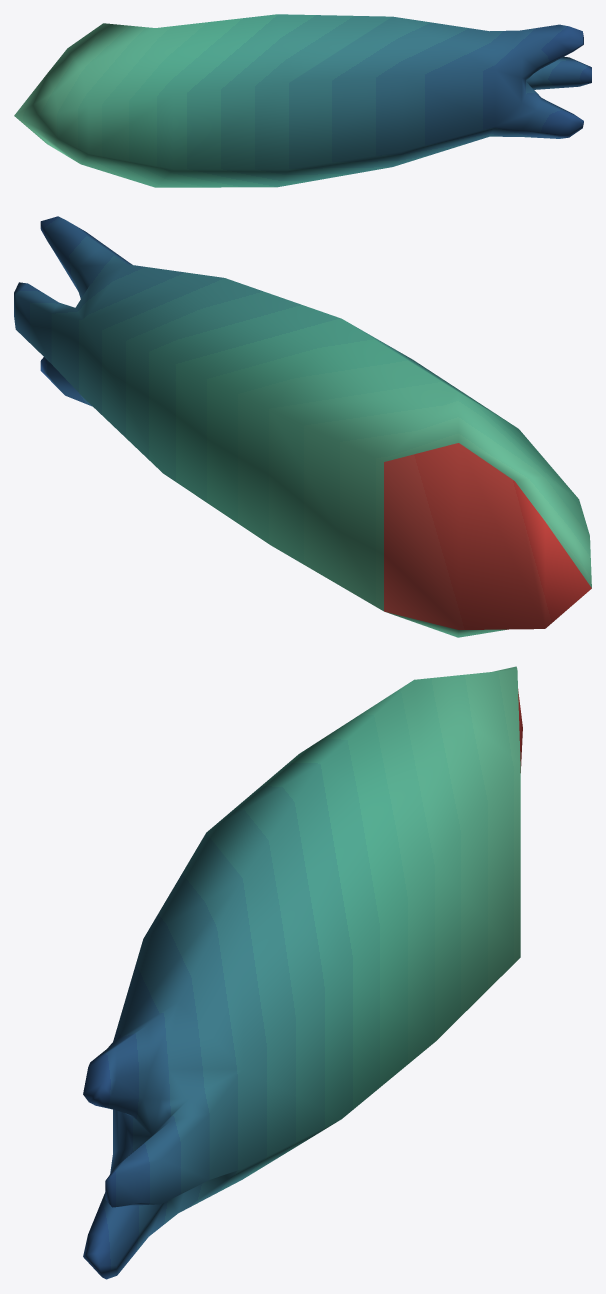
The model's file is FrogLeg_BottomLeg_Adjusted.fbx.
3 renders of one model, top to bottom at view 1: azimuth 30°, elevation 25°; view 2: azimuth 150°, elevation 25°; view 3: azimuth 270°, elevation 25°, orthographic. The views are drawn at different scales.
Visible parts, largest first — view 1: ForgLeg_BottomLeg_Adjusted; view 2: ForgLeg_BottomLeg_Adjusted; view 3: ForgLeg_BottomLeg_Adjusted.
Boxes of the visible parts, bbox=[...] form: ForgLeg_BottomLeg_Adjusted: bbox=[14, 14, 591, 187]; ForgLeg_BottomLeg_Adjusted: bbox=[14, 216, 591, 637]; ForgLeg_BottomLeg_Adjusted: bbox=[83, 666, 522, 1279].
Size of the model in its own units: 4.13 by 1.44 by 1.65.
